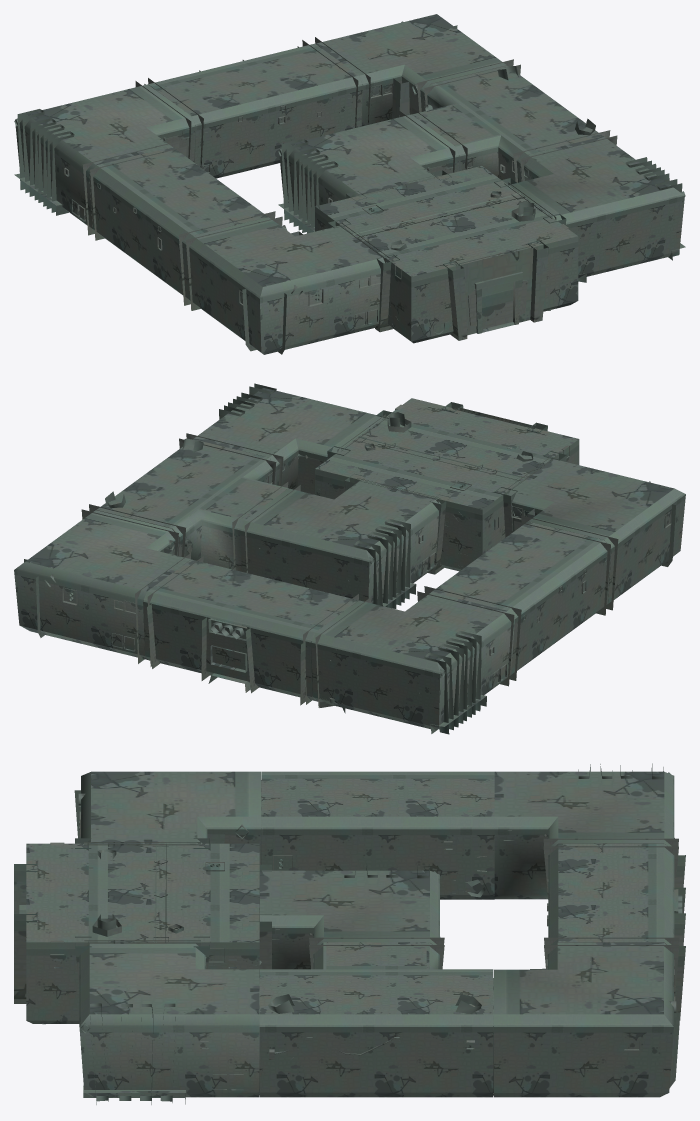
Rendered from Combined_Mesh_root_scene__20_a4a1e6c2__zombies2_diffuse_08_b0bdab26_c1f257.obj.
3 views of the same model, one above another, from view 1: azimuth 30°, elevation 25°; view 2: azimuth 150°, elevation 25°; view 3: azimuth 270°, elevation 25° (orthographic). The views are drawn at different scales.
Size of the model in its own units: 51.83 by 9.64 by 57.56.
132 materials, 132 textured.
